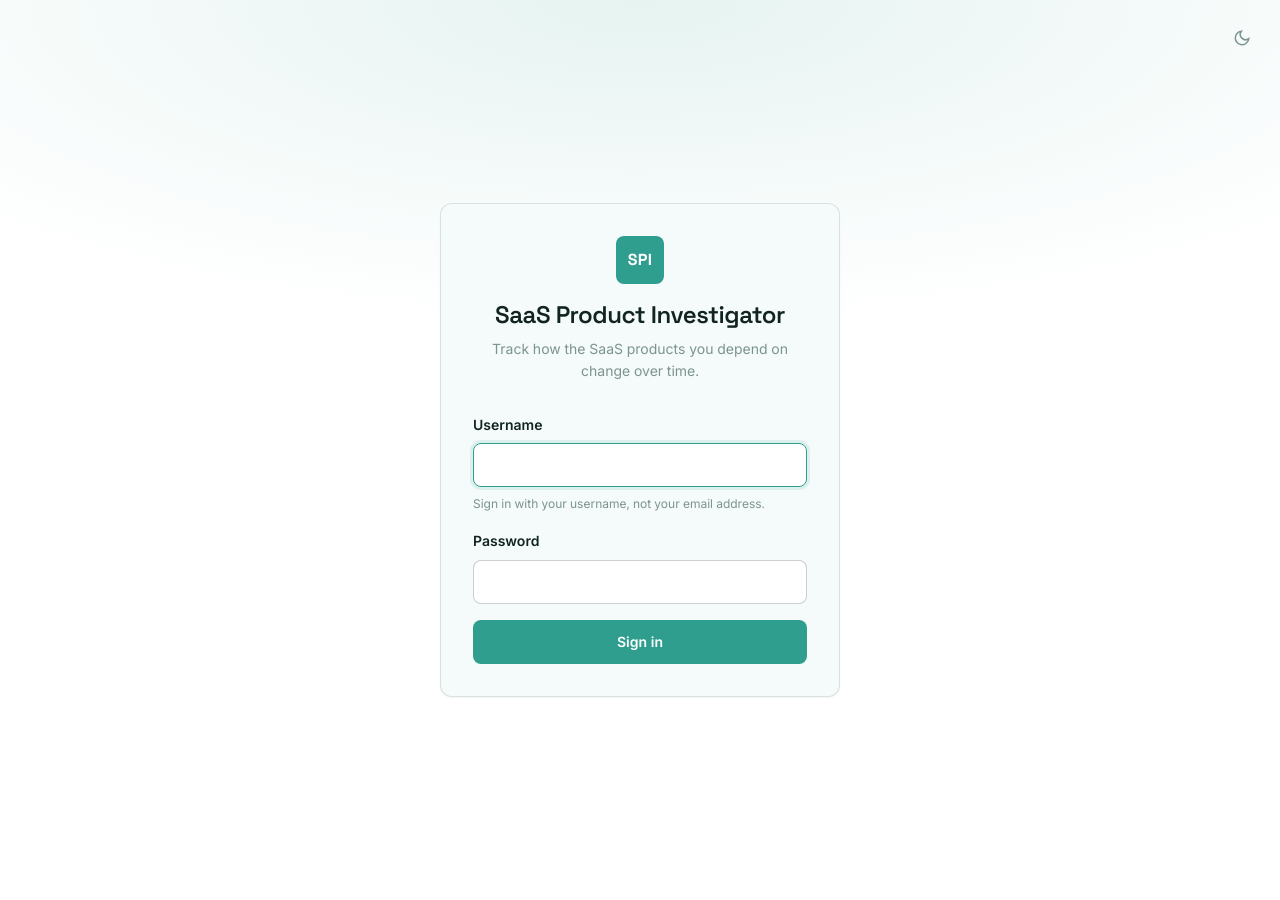
LoginPage › shows the server's own message on a rejected login and clears the password
In the field labelled "Username": (640, 465) top-left (473, 443), bottom-right (807, 487), type "admin"
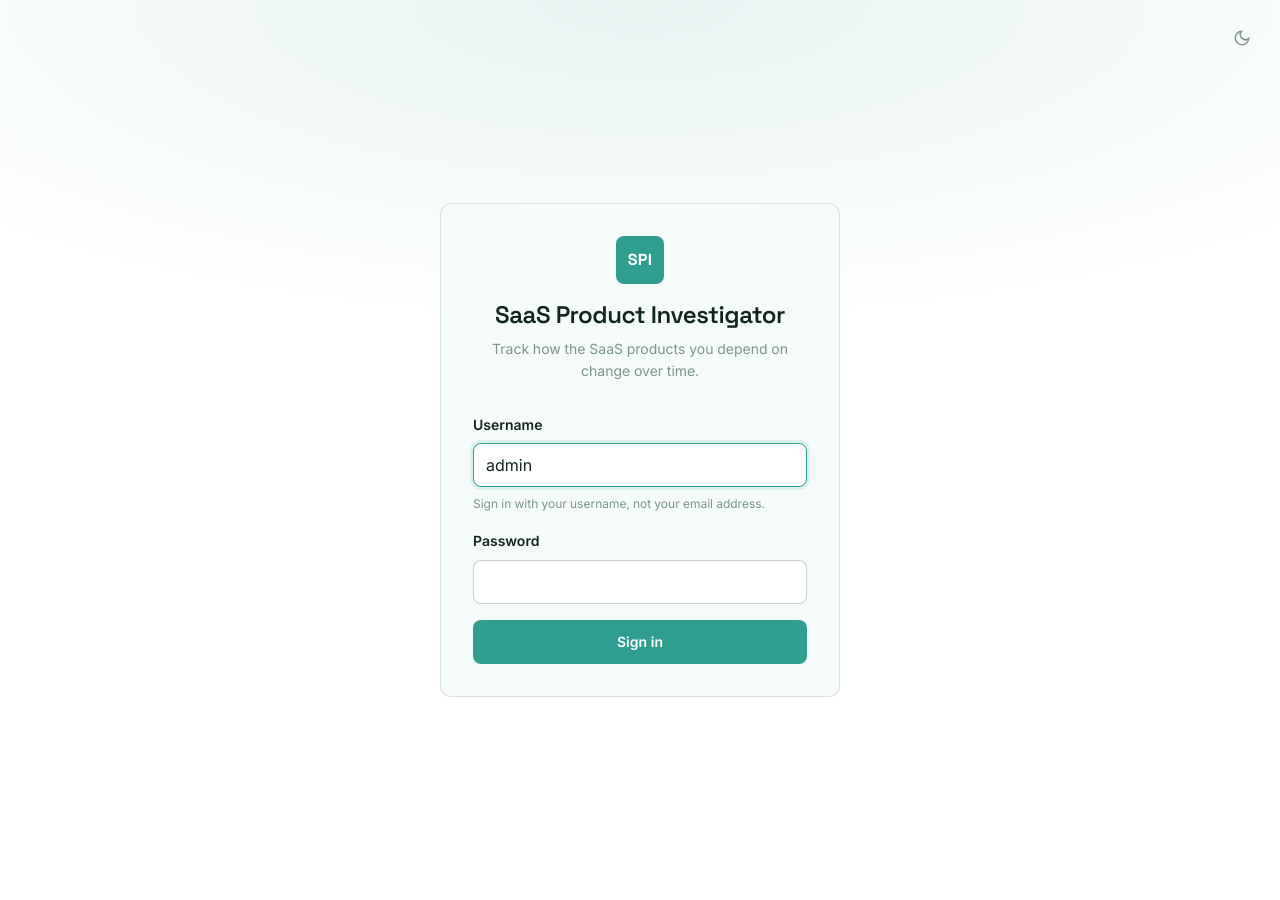
In the password field labelled "Password": (640, 582) top-left (473, 560), bottom-right (807, 604), type "wrong"
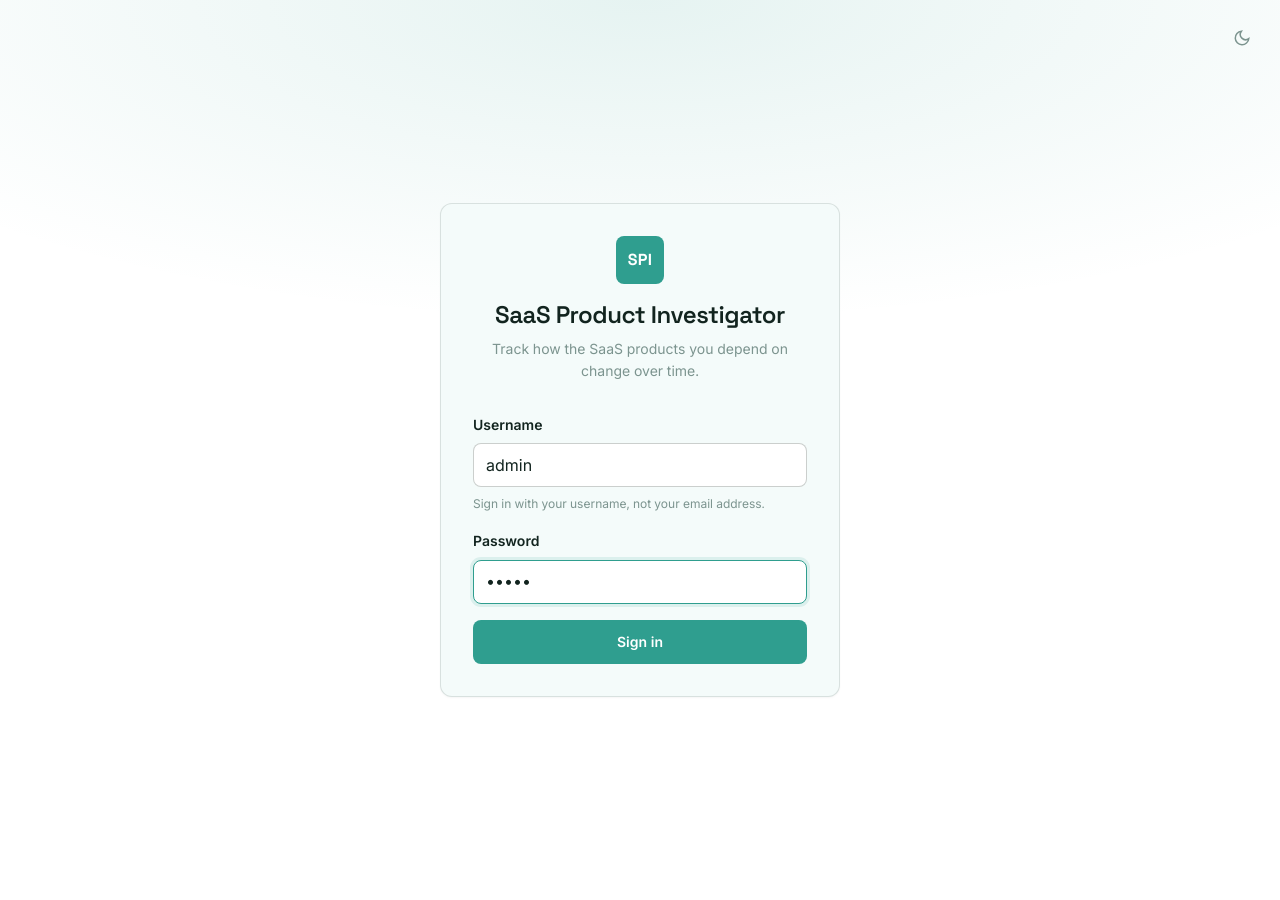
Click the button "Sign in": (640, 642) top-left (473, 620), bottom-right (807, 664)
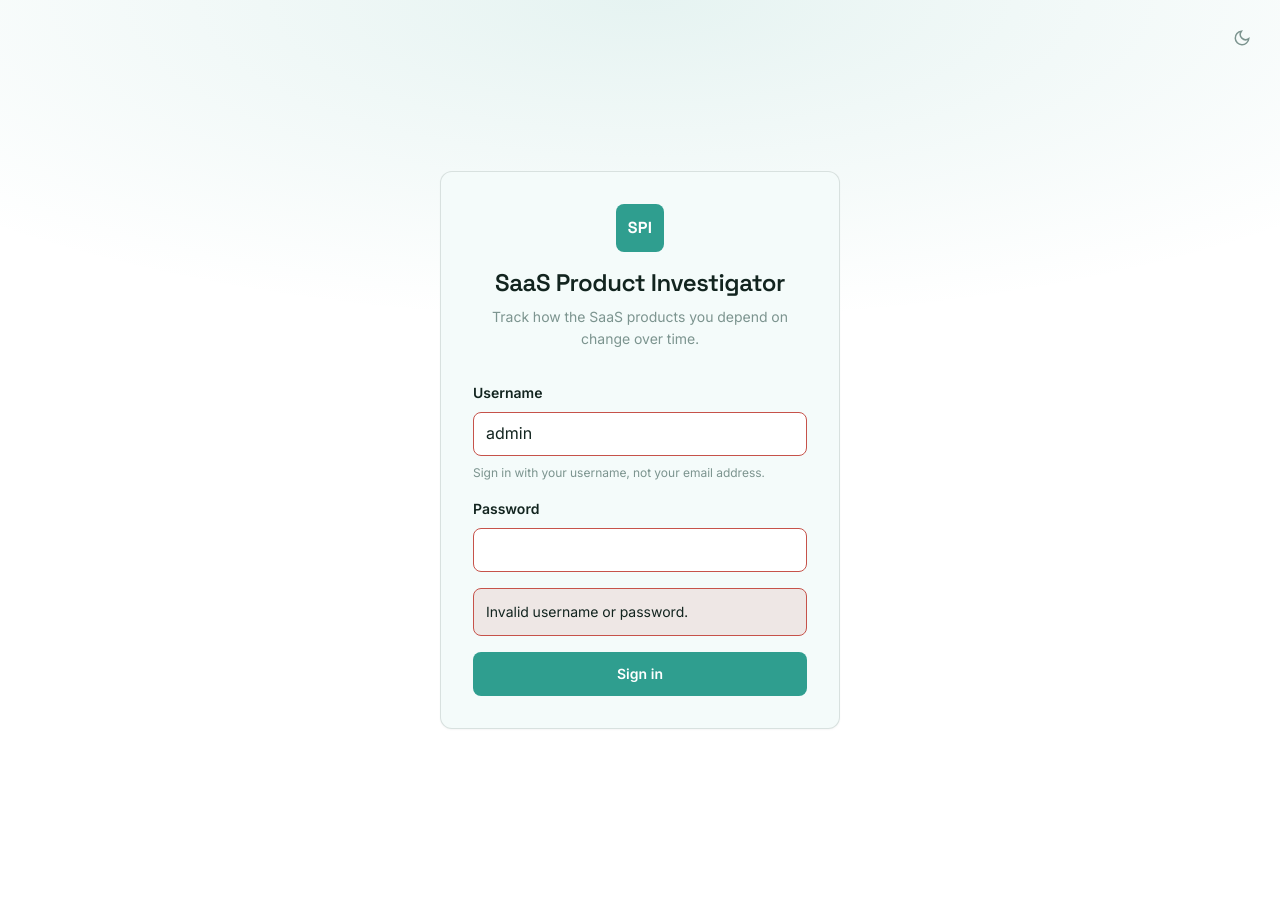
Expected: the message reads "Invalid username or password.", top-left (486, 603), bottom-right (688, 620)
Expected: the password field labelled "Password" is empty, top-left (473, 528), bottom-right (807, 572)
